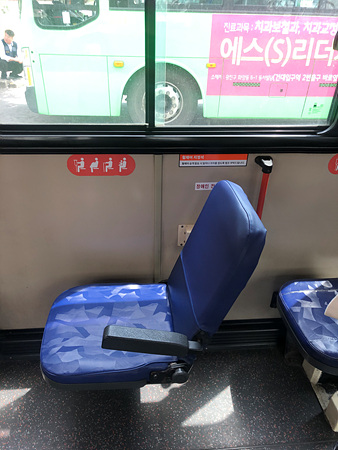seat: (37, 183, 267, 379)
